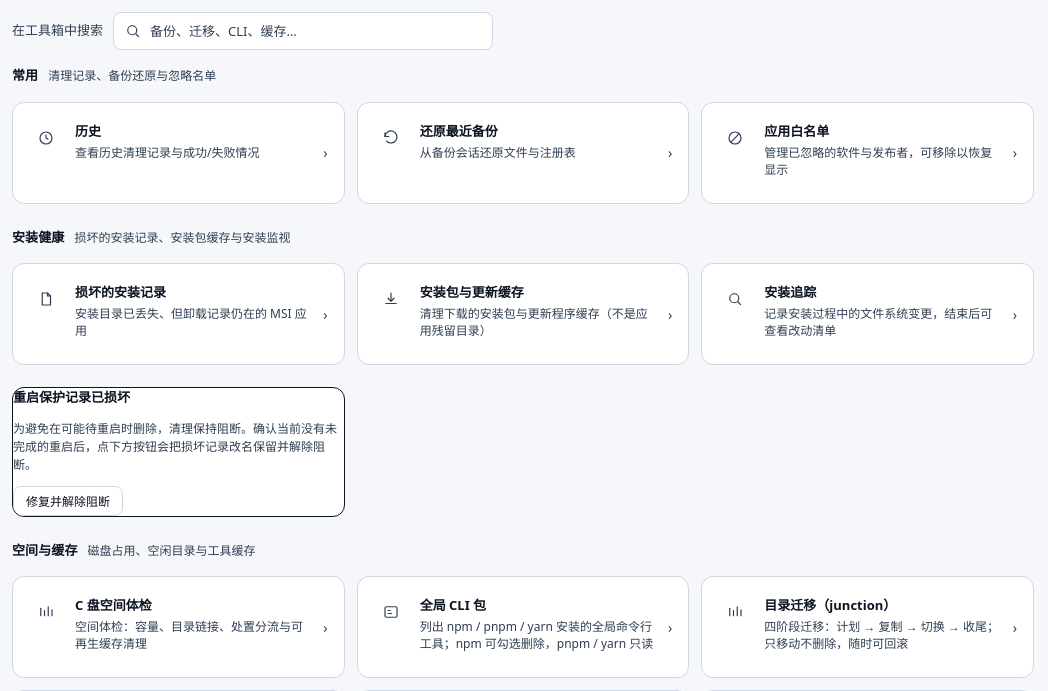
offers a recovery action for a corrupt reboot gate
This screenshot has width=1048, height=691.
Step 1. Click the button "修复并解除阻断" → (68, 500), box [13,486,123,516]
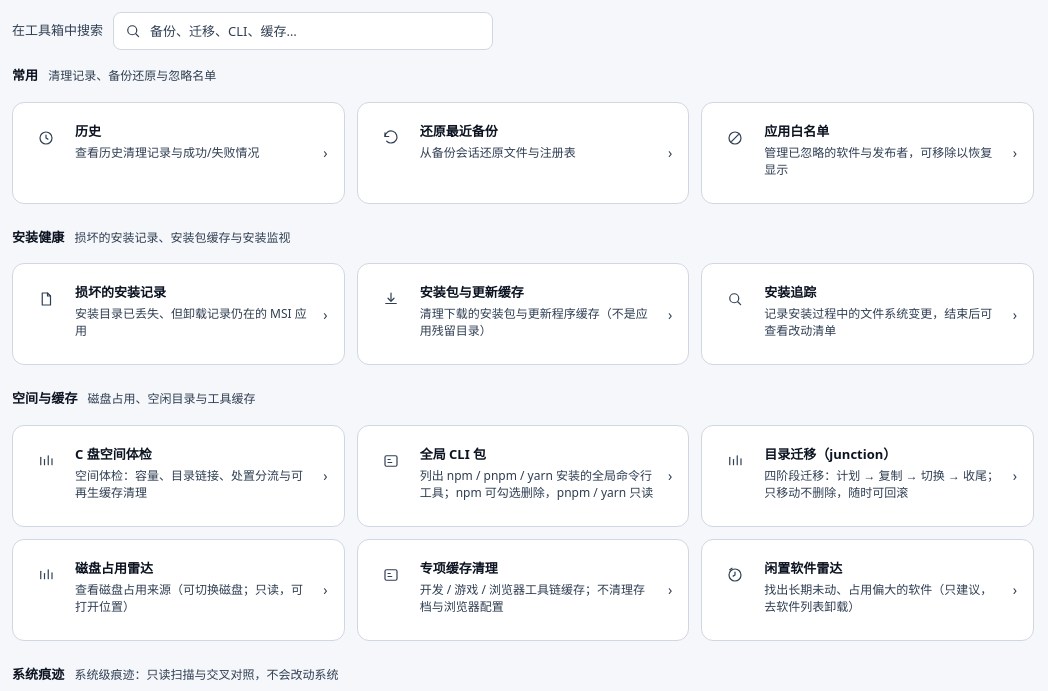
Check: the button "修复并解除阻断" is gone
